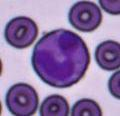E: (30, 28, 90, 88)
